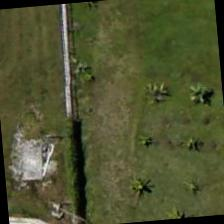Kelapa_Sawit: (104, 40, 202, 138), (99, 92, 196, 190), (93, 134, 191, 223), (147, 95, 223, 192), (151, 44, 223, 140), (145, 138, 223, 222), (130, 168, 224, 222)
